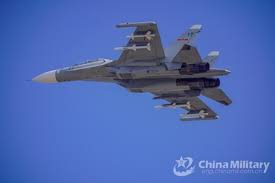maybay_muctieu: (19, 27, 239, 127)
ten_lua: (112, 43, 156, 54), (153, 101, 194, 111), (178, 110, 212, 121), (126, 32, 159, 41)
